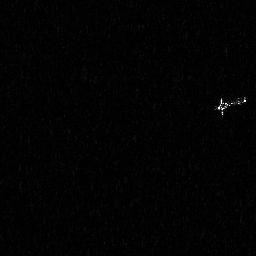ship: (214, 92, 248, 121)
